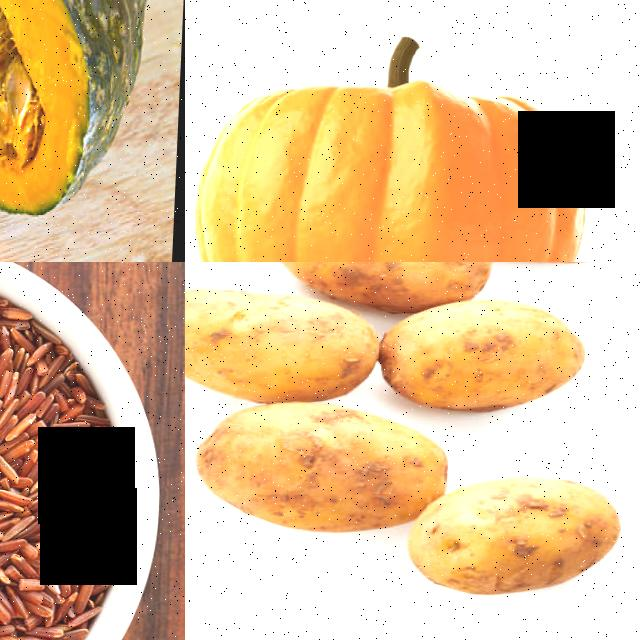potato: (195, 400, 448, 533), (436, 476, 632, 606), (383, 298, 603, 408), (185, 285, 387, 403), (268, 262, 479, 306)
pumpkin: (187, 75, 599, 262), (0, 0, 163, 204)
red rice: (0, 289, 121, 640)
